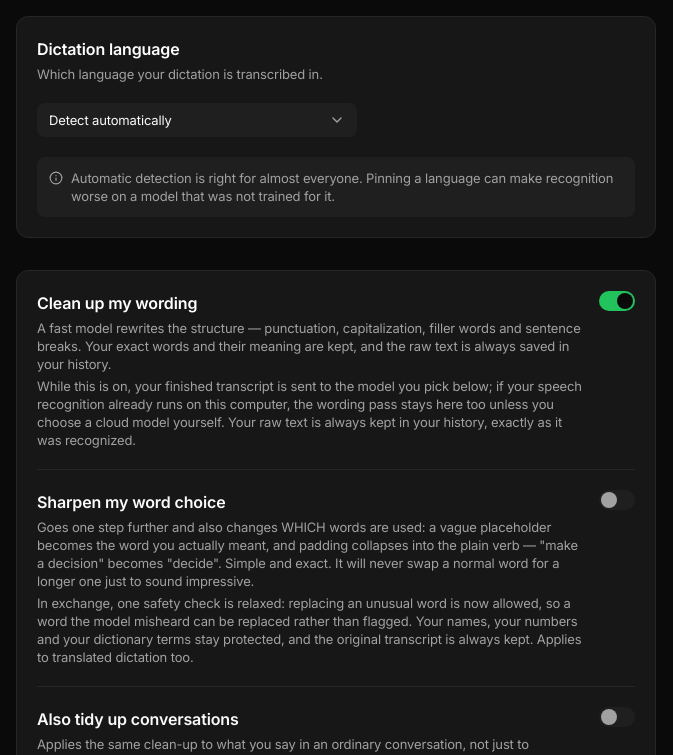
Scenario: LanguageTab › filters the list by name, own name, or code
The width and height of the screenshot is (673, 755).
Click the dropdown with test id "dictation-language" at (110, 120), box [37,103,357,137]
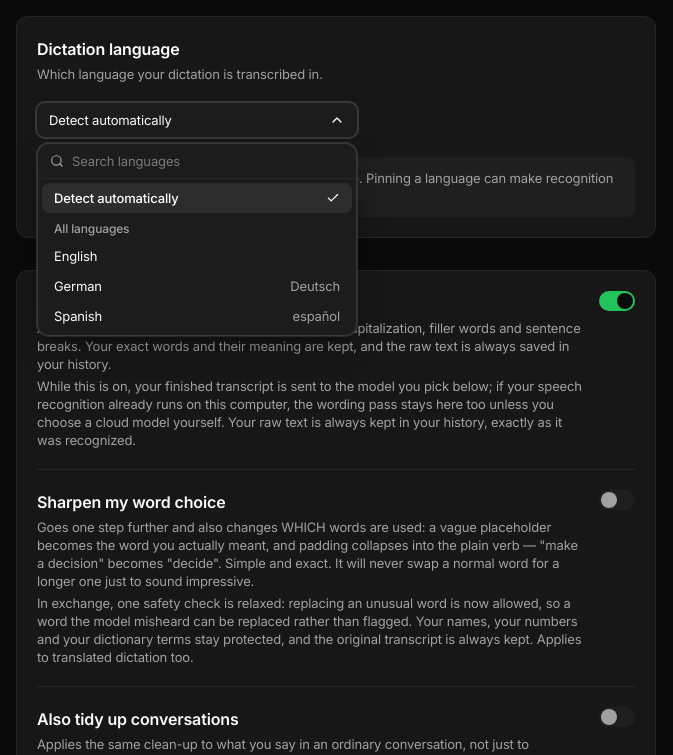
Type "germ" into the field with test id "dictation-language-search" at (208, 161), box [72,152,344,170]
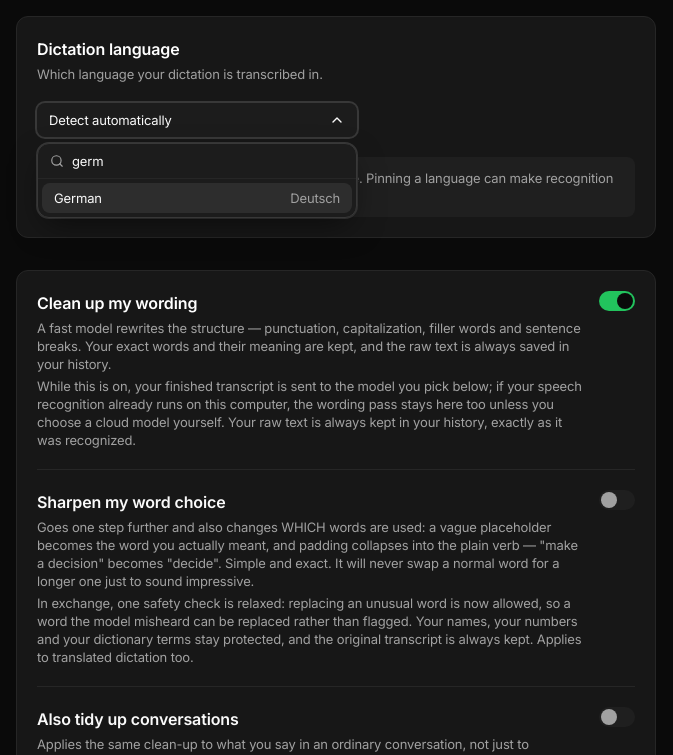
Replace the text in the field with test id "dictation-language-search" with "Deutsch" at (208, 161), box [72,152,344,170]
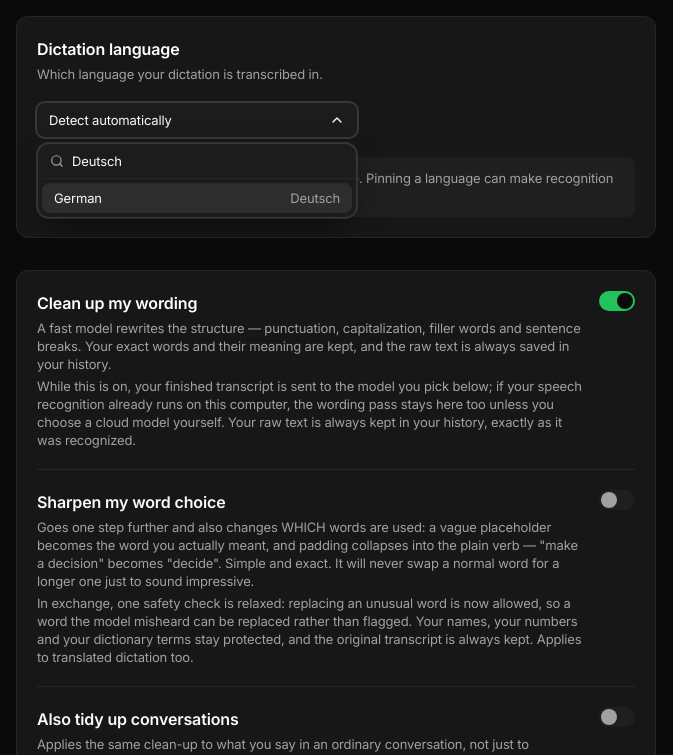
Replace the text in the field with test id "dictation-language-search" with "es" at (208, 161), box [72,152,344,170]
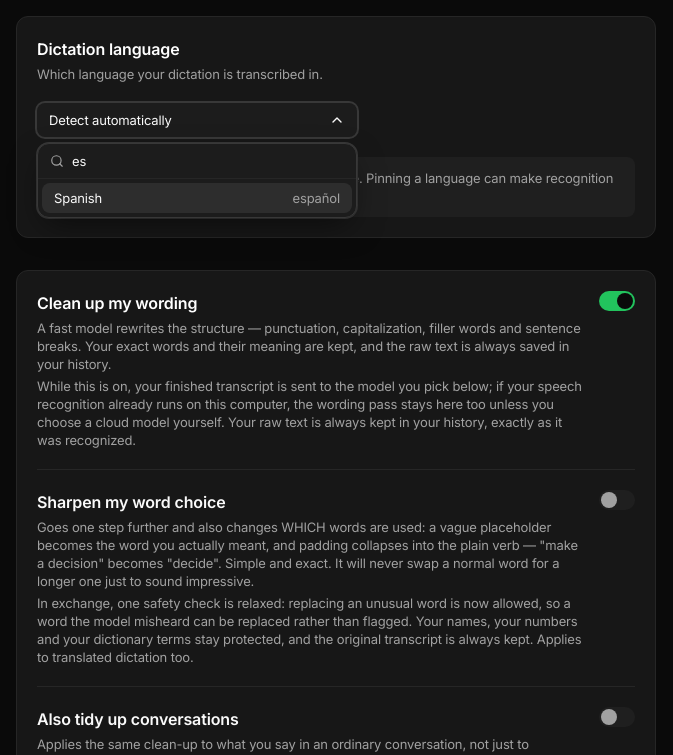
Replace the text in the field with test id "dictation-language-search" with "zzzz" at (208, 161), box [72,152,344,170]
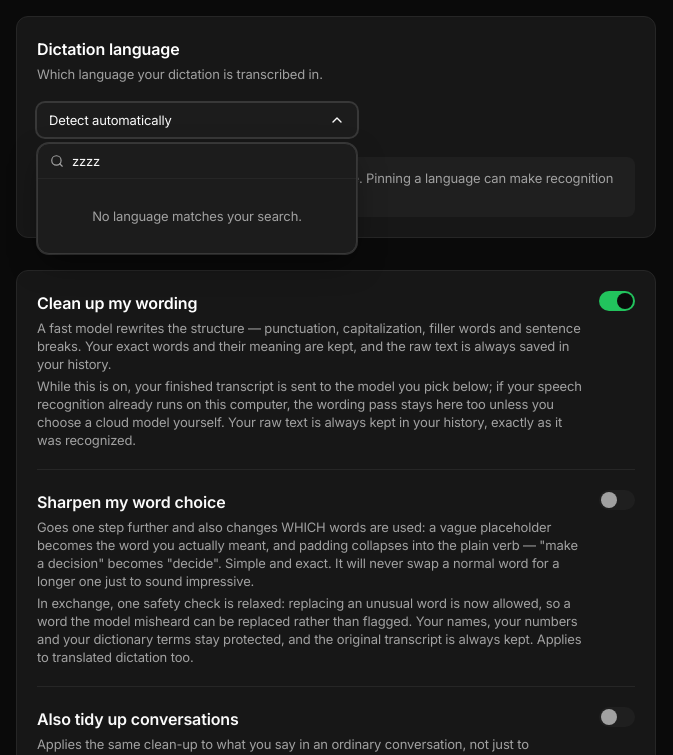
Now the text "No language matches your search." is shown, box [92,208,302,224]
